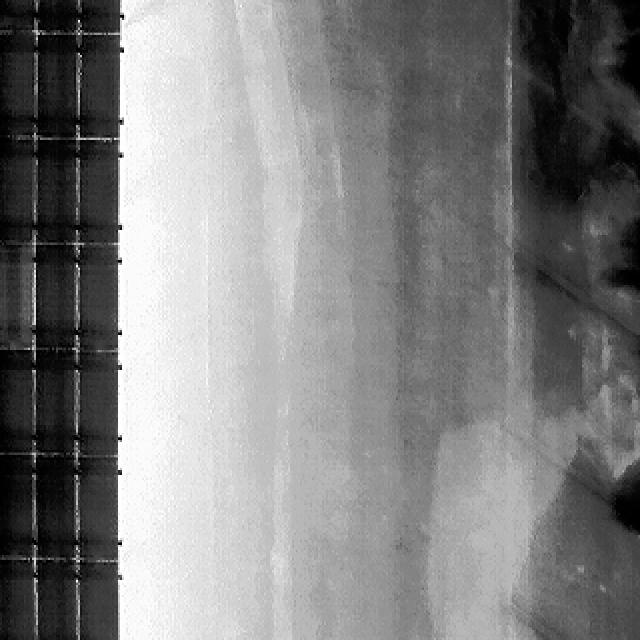PV-modules: (73, 351, 119, 459), (30, 346, 75, 454), (31, 247, 75, 356), (30, 455, 75, 561), (76, 245, 120, 353), (32, 32, 76, 140), (76, 457, 120, 564), (33, 141, 76, 249), (77, 138, 120, 245), (76, 32, 119, 138), (0, 138, 35, 249), (0, 31, 35, 138), (0, 452, 35, 558), (0, 346, 34, 453), (0, 242, 34, 348), (76, 563, 120, 640), (33, 563, 76, 640), (0, 560, 34, 638), (76, 0, 120, 32), (32, 0, 76, 30), (0, 0, 36, 28)
